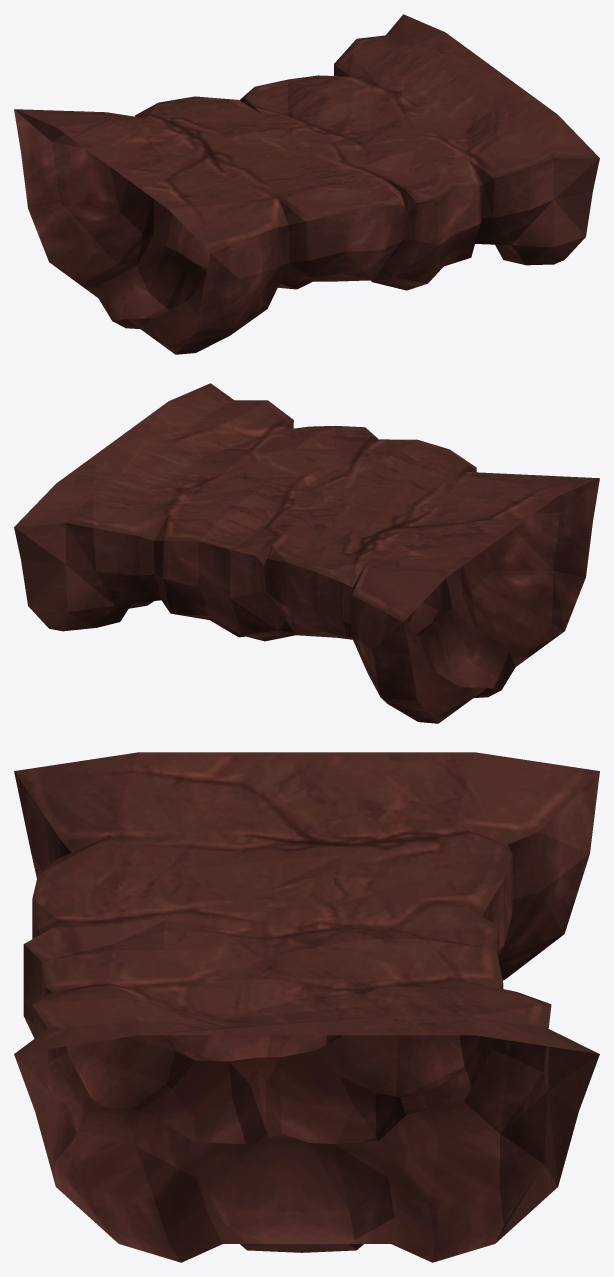
The model's file is lava_bridge_straight_01.fbx.
3 renders of one model, top to bottom at view 1: azimuth 30°, elevation 25°; view 2: azimuth 150°, elevation 25°; view 3: azimuth 270°, elevation 25°, orthographic. The views are drawn at different scales.
Visible parts, largest first — view 1: obj0.134; view 2: obj0.134; view 3: obj0.134.
Part boxes in pixels (bbox=[...]): obj0.134: bbox=[14, 14, 599, 354]; obj0.134: bbox=[14, 383, 599, 723]; obj0.134: bbox=[14, 752, 599, 1262].
Size of the model in its own units: 4 by 1.6 by 3.5.
